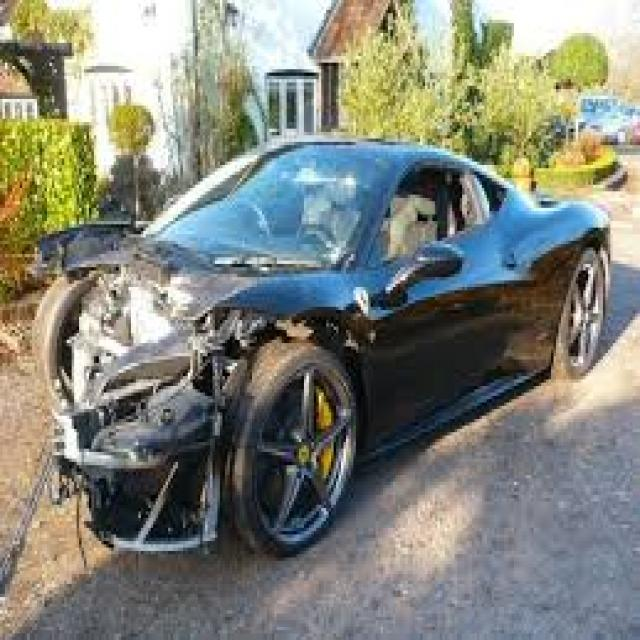severe: (0, 201, 388, 550)
